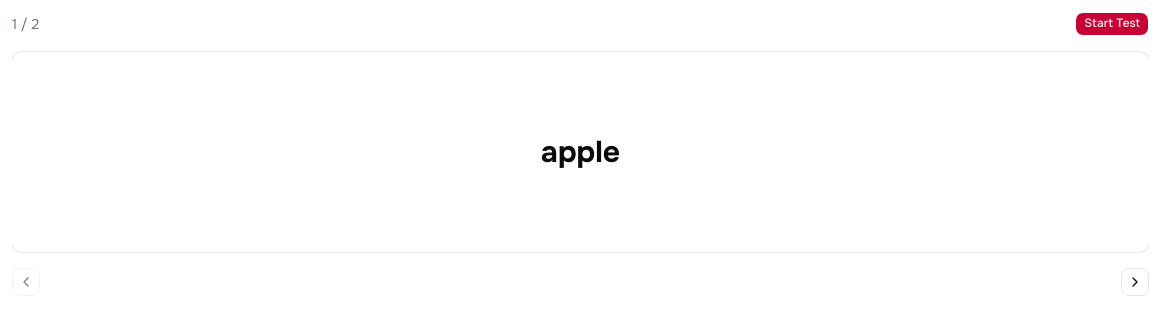
it: VocabularyStudy › resets flip when navigating to next card
This screenshot has width=1164, height=313.
Click the button with aria-label "flip card" at (580, 152), box x1=12 y1=52 x2=1149 y2=252
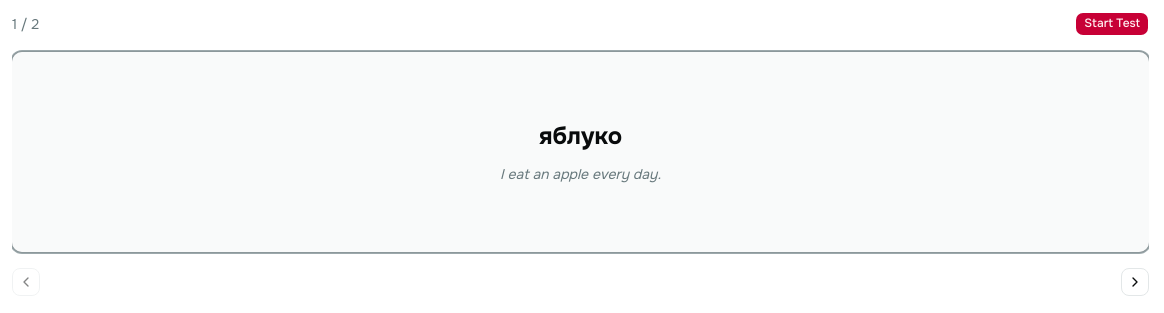
Result: the text "яблуко" is shown at x1=539 y1=121 x2=622 y2=151
Click the button named "Next card" at (1135, 282), box x1=1121 y1=268 x2=1149 y2=296
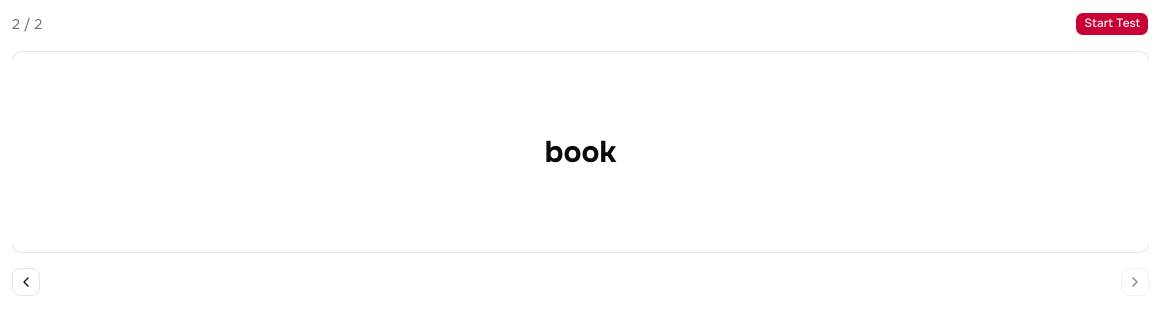
Result: the text "book" is shown at x1=545 y1=134 x2=616 y2=170
